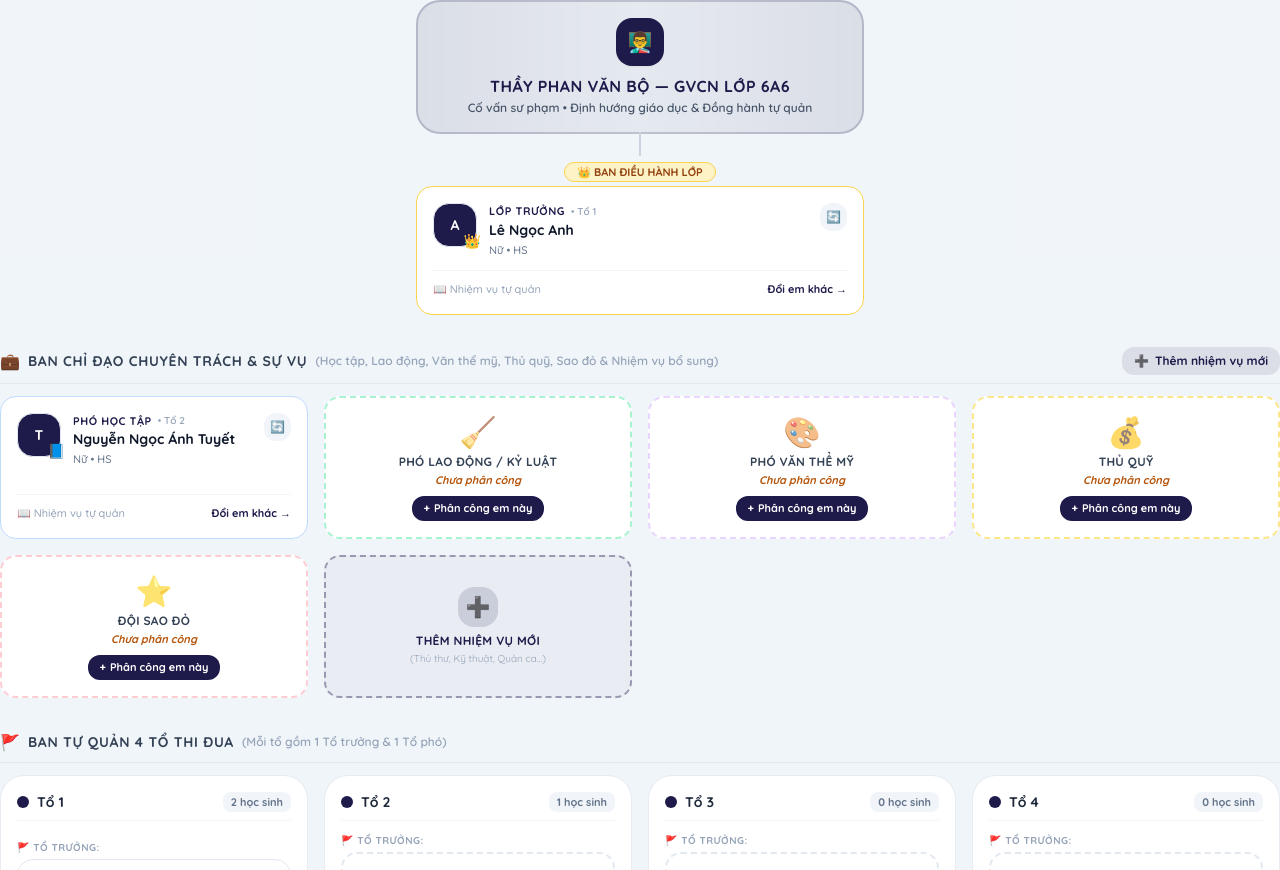
ClassOfficerOrgChart Component › 5. Mở modal phân công cán sự khi nhấn vào thẻ chưa phân công
The width and height of the screenshot is (1280, 870).
Expected: the text "Thủ Quỹ" is shown, [1099,454,1153,468]
Click the text "Thủ Quỹ": {"x": 1126, "y": 467} [972,396,1279,538]
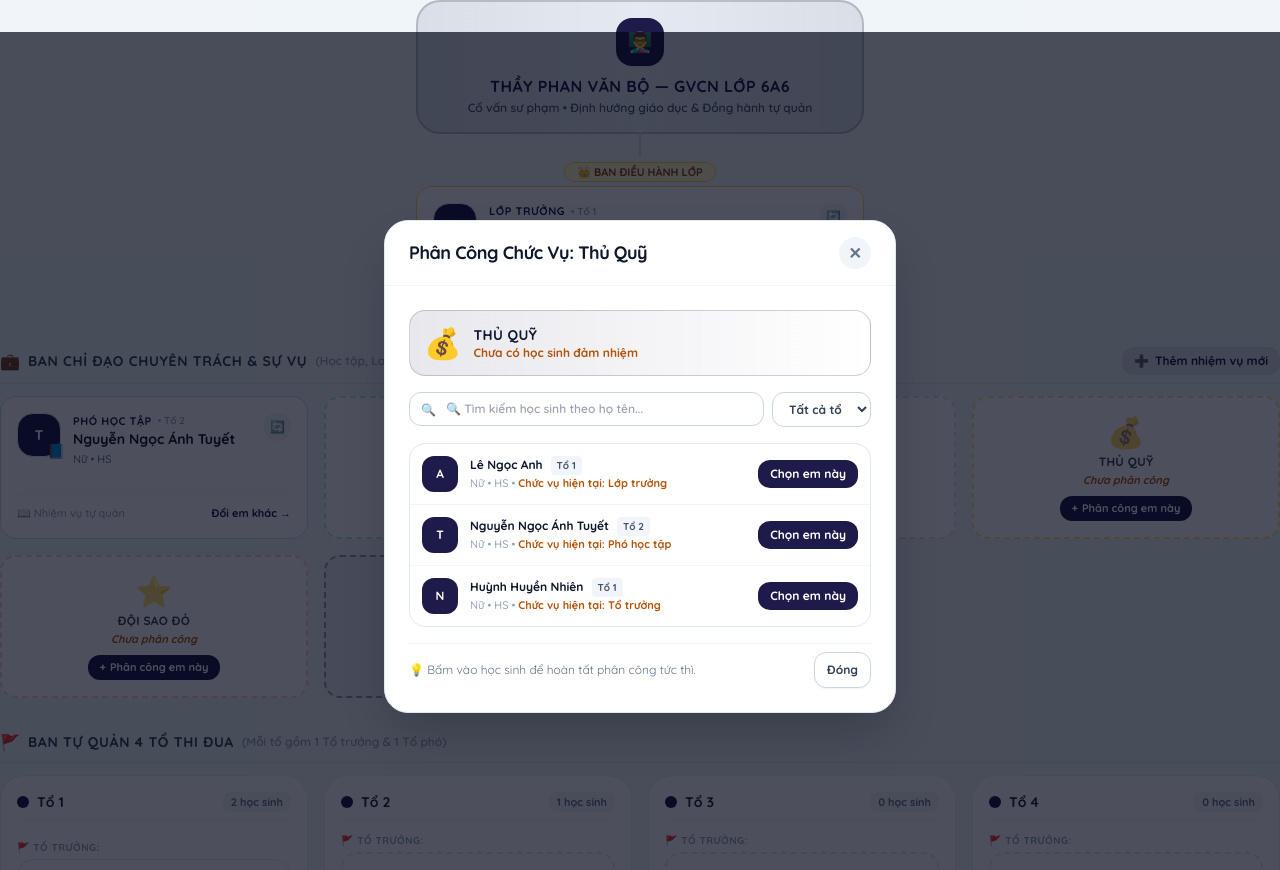
Result: the heading "Phân Công Chức Vụ: Thủ Quỹ" is shown at [409,238,647,266]
